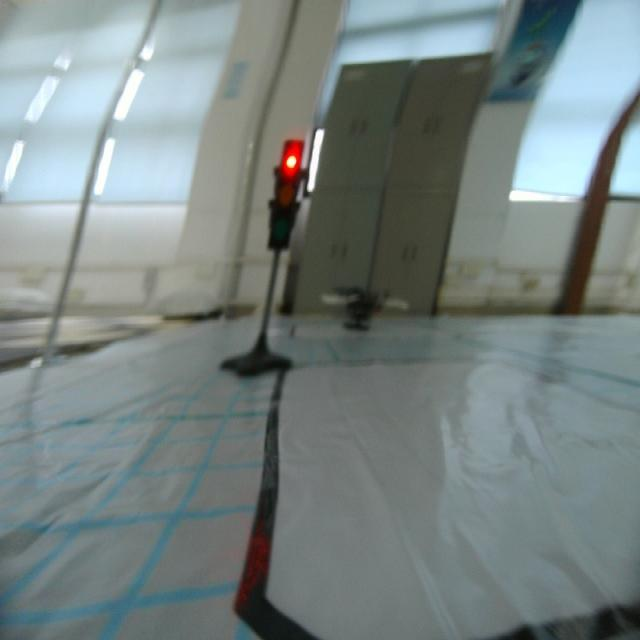red: (264, 130, 306, 252)
